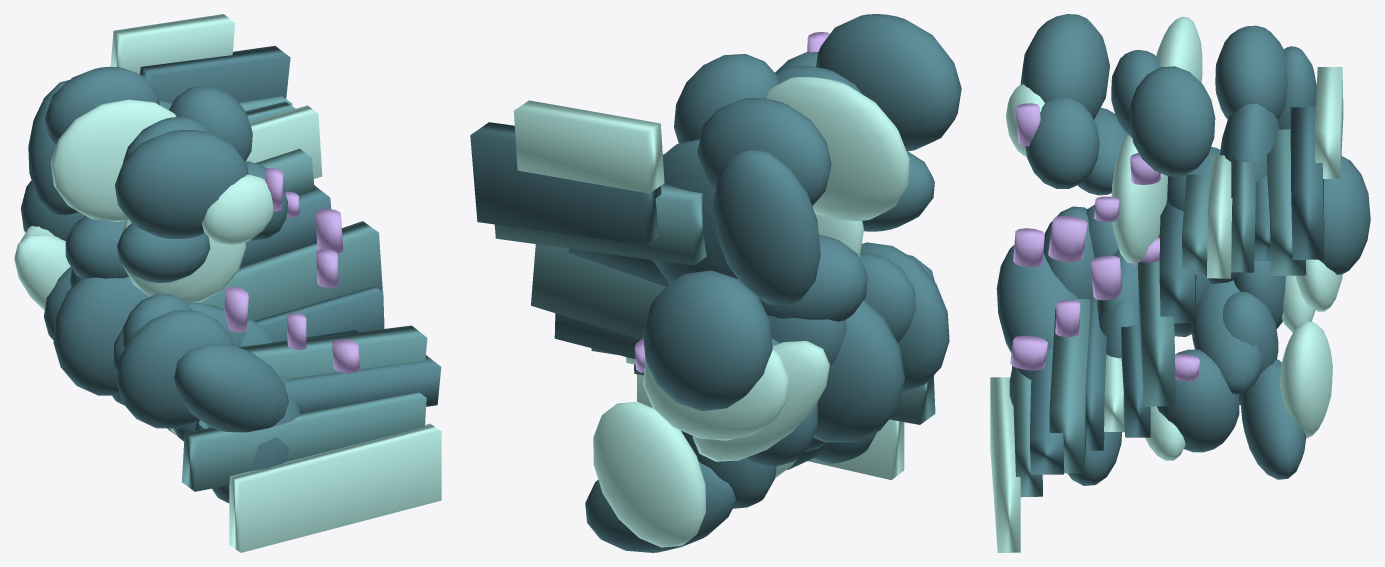
Rendered from reef-wall-left-01.glb.
3 views of the same model, side by side, from view 1: azimuth 30°, elevation 25°; view 2: azimuth 150°, elevation 25°; view 3: azimuth 270°, elevation 25° (orthographic). The views are drawn at different scales.
Visible parts, largest first — view 1: reef_wall_left_01_stratified_shelf_00, reef_wall_left_01_faceted_boulder_03, reef_wall_left_01_stratified_shelf_01, reef_wall_left_01_faceted_boulder_04, reef_wall_left_01_faceted_boulder_19, reef_wall_left_01_stratified_shelf_07, reef_wall_left_01_faceted_boulder_22, reef_wall_left_01_faceted_boulder_23, reef_wall_left_01_stratified_shelf_14, reef_wall_left_01_stratified_shelf_02, reef_wall_left_01_stratified_shelf_03, reef_wall_left_01_stratified_shelf_15 (+27 smaller); view 2: reef_wall_left_01_faceted_boulder_27, reef_wall_left_01_faceted_boulder_05, reef_wall_left_01_faceted_boulder_16, reef_wall_left_01_stratified_shelf_14, reef_wall_left_01_faceted_boulder_03, reef_wall_left_01_faceted_boulder_04, reef_wall_left_01_stratified_shelf_15, reef_wall_left_01_faceted_boulder_23, reef_wall_left_01_faceted_boulder_02, reef_wall_left_01_stratified_shelf_07, reef_wall_left_01_stratified_shelf_13, reef_wall_left_01_faceted_boulder_08 (+18 smaller); view 3: reef_wall_left_01_faceted_boulder_31, reef_wall_left_01_faceted_boulder_03, reef_wall_left_01_faceted_boulder_02, reef_wall_left_01_faceted_boulder_30, reef_wall_left_01_stratified_shelf_03, reef_wall_left_01_faceted_boulder_13, reef_wall_left_01_faceted_boulder_15, reef_wall_left_01_faceted_boulder_19, reef_wall_left_01_faceted_boulder_16, reef_wall_left_01_stratified_shelf_14, reef_wall_left_01_stratified_shelf_00, reef_wall_left_01_stratified_shelf_07 (+42 smaller).
Part boxes in pixels (x1,y1,x2,y2): reef_wall_left_01_stratified_shelf_00: [229, 423, 441, 552]; reef_wall_left_01_faceted_boulder_03: [115, 130, 248, 238]; reef_wall_left_01_stratified_shelf_01: [181, 392, 426, 491]; reef_wall_left_01_faceted_boulder_04: [50, 99, 176, 221]; reef_wall_left_01_faceted_boulder_19: [174, 343, 288, 432]; reef_wall_left_01_stratified_shelf_07: [199, 221, 382, 320]; reef_wall_left_01_faceted_boulder_22: [116, 310, 233, 428]; reef_wall_left_01_faceted_boulder_23: [53, 277, 148, 395]; reef_wall_left_01_stratified_shelf_14: [140, 46, 290, 103]; reef_wall_left_01_stratified_shelf_02: [199, 355, 441, 428]; reef_wall_left_01_stratified_shelf_03: [239, 325, 427, 378]; reef_wall_left_01_stratified_shelf_15: [110, 14, 235, 74]; reef_wall_left_01_faceted_boulder_27: [643, 270, 772, 410]; reef_wall_left_01_faceted_boulder_05: [713, 150, 820, 304]; reef_wall_left_01_faceted_boulder_16: [593, 401, 705, 547]; reef_wall_left_01_stratified_shelf_14: [470, 122, 661, 245]; reef_wall_left_01_faceted_boulder_03: [816, 14, 961, 151]; reef_wall_left_01_faceted_boulder_04: [767, 77, 909, 220]; reef_wall_left_01_stratified_shelf_15: [514, 100, 664, 193]; reef_wall_left_01_faceted_boulder_23: [813, 299, 904, 442]; reef_wall_left_01_faceted_boulder_02: [697, 98, 831, 205]; reef_wall_left_01_stratified_shelf_07: [531, 244, 665, 339]; reef_wall_left_01_stratified_shelf_13: [494, 184, 706, 265]; reef_wall_left_01_faceted_boulder_08: [643, 349, 789, 440]; reef_wall_left_01_faceted_boulder_31: [1129, 66, 1215, 176]; reef_wall_left_01_faceted_boulder_03: [1020, 14, 1109, 119]; reef_wall_left_01_faceted_boulder_02: [1215, 25, 1287, 119]; reef_wall_left_01_faceted_boulder_30: [1025, 98, 1099, 188]; reef_wall_left_01_stratified_shelf_03: [1049, 299, 1090, 473]; reef_wall_left_01_faceted_boulder_13: [1240, 359, 1306, 479]; reef_wall_left_01_faceted_boulder_15: [1157, 349, 1239, 452]; reef_wall_left_01_faceted_boulder_19: [996, 245, 1077, 352]; reef_wall_left_01_faceted_boulder_16: [1280, 321, 1332, 438]; reef_wall_left_01_stratified_shelf_14: [1290, 107, 1324, 259]; reef_wall_left_01_stratified_shelf_00: [990, 377, 1020, 552]; reef_wall_left_01_stratified_shelf_07: [1137, 260, 1175, 406].
Size of the model in its own units: 5.62 by 6.79 by 5.64.
